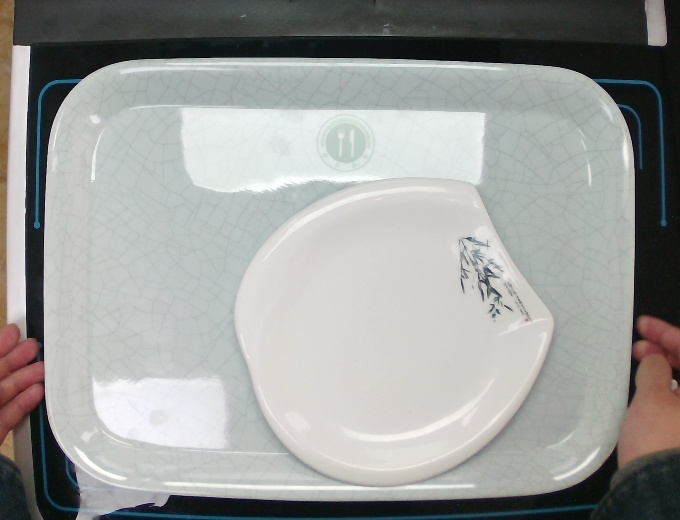JYsf-Mian_Pan: (226, 171, 561, 490)
